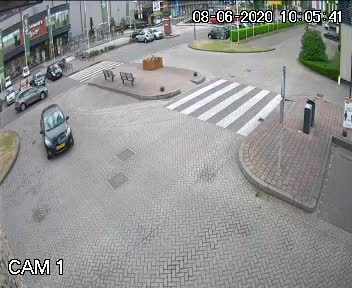car: (34, 104, 83, 162), (10, 80, 49, 117)
